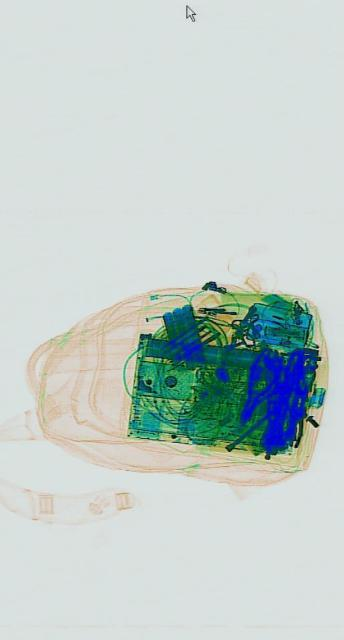Pliers: (231, 335, 284, 437)
